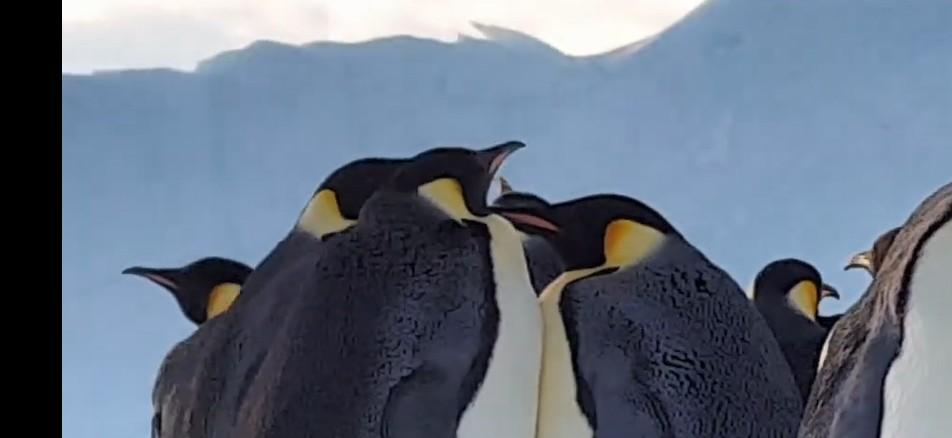Emperor Penguin: (200, 127, 548, 438), (495, 149, 818, 438), (218, 138, 432, 416), (796, 92, 952, 438), (112, 248, 248, 438), (746, 236, 844, 406)
